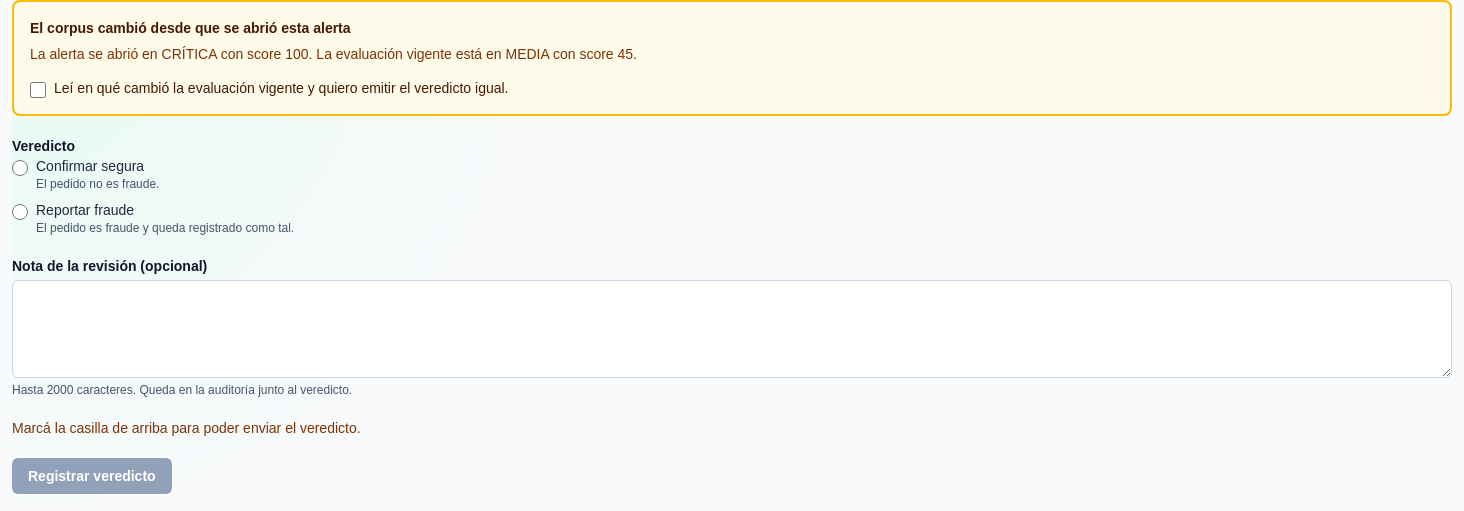
Test: formulario de revisión › con divergencia de banda bloquea el envío hasta reconocerla
Click the radio button labelled "Reportar fraude" at (20, 212), box [12,204,28,220]
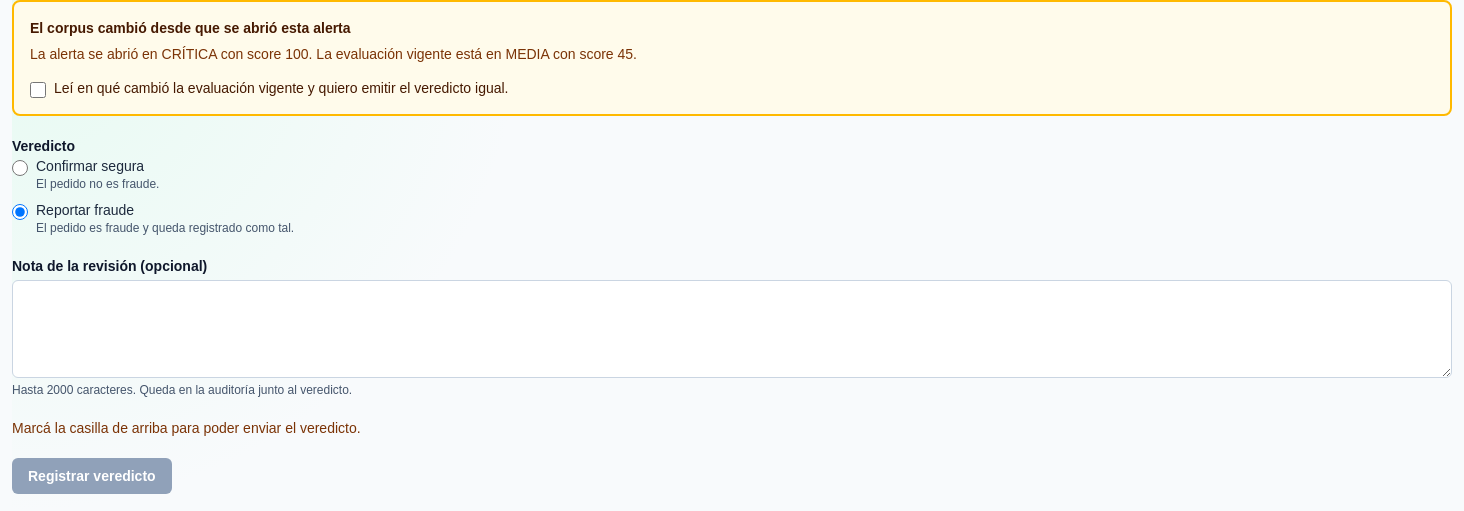
Check: the button "Registrar veredicto" is disabled, box [12,458,172,494]
Check: the text "Marcá la casilla de arriba para poder enviar el veredicto." is shown, box [12,420,361,436]
Click the checkbox at (38, 90), box [30,82,46,98]
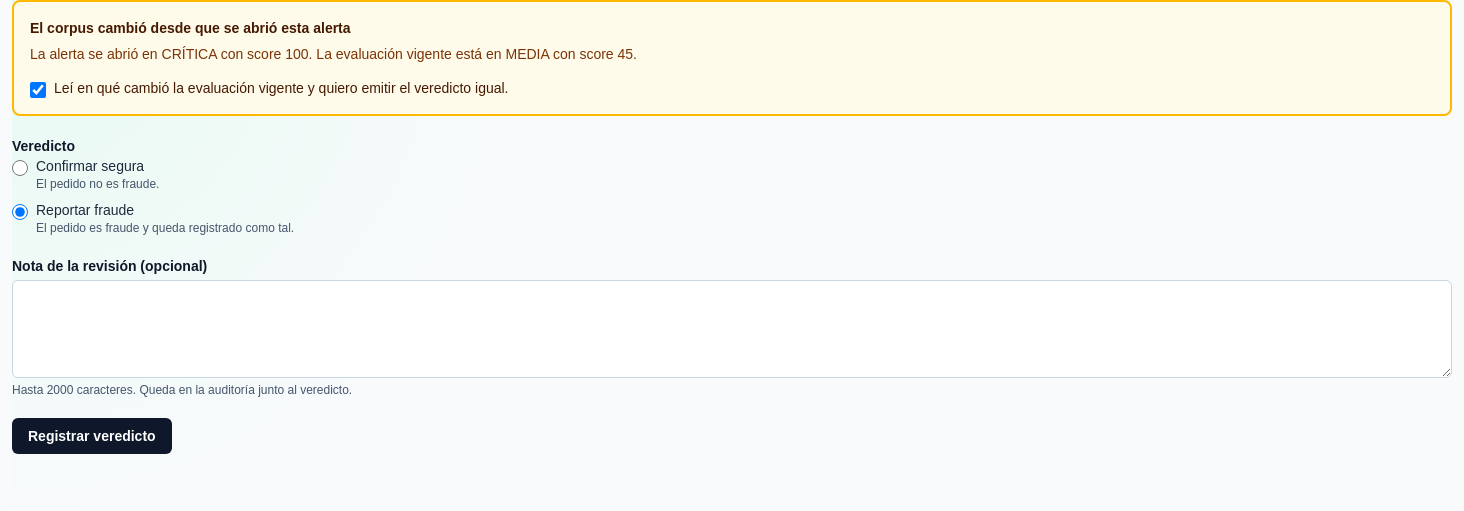
Check: the button "Registrar veredicto" is enabled, box [12,418,172,454]
